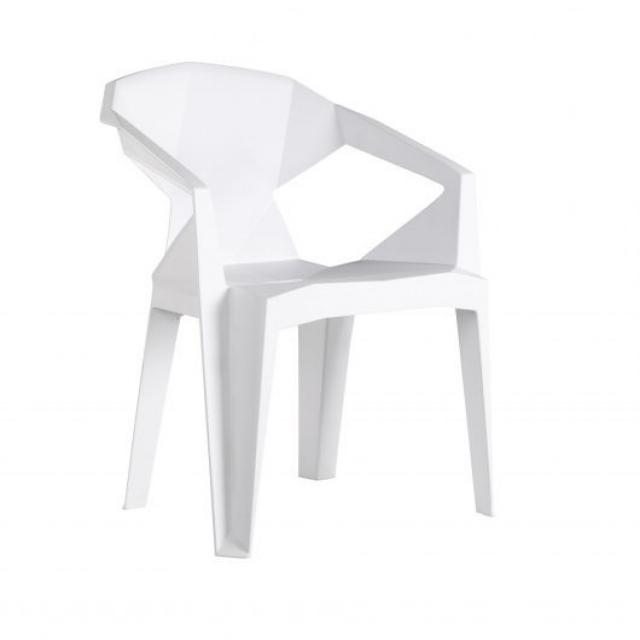Chair: (100, 58, 507, 560)
